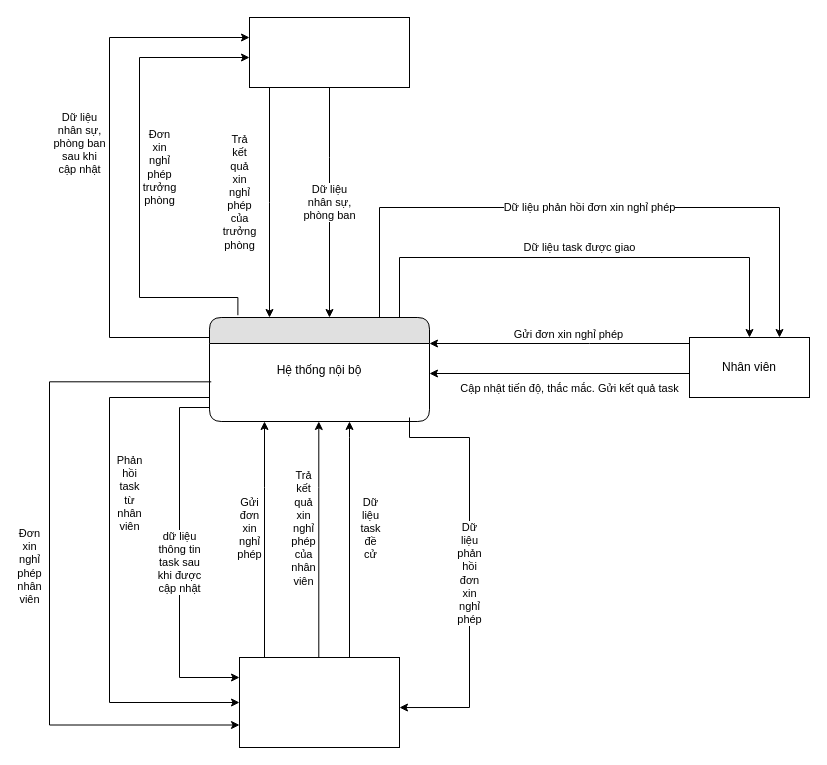
This 827x765 diagram has some shape labels left out. The shapes that lost their labels are listed below. From the top down, each one's centre as x and y in pixels, then its label:
point 329,52: Giám đốc/admin
point 319,702: Trưởng phòng
